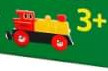brio: (4, 5, 75, 52)
